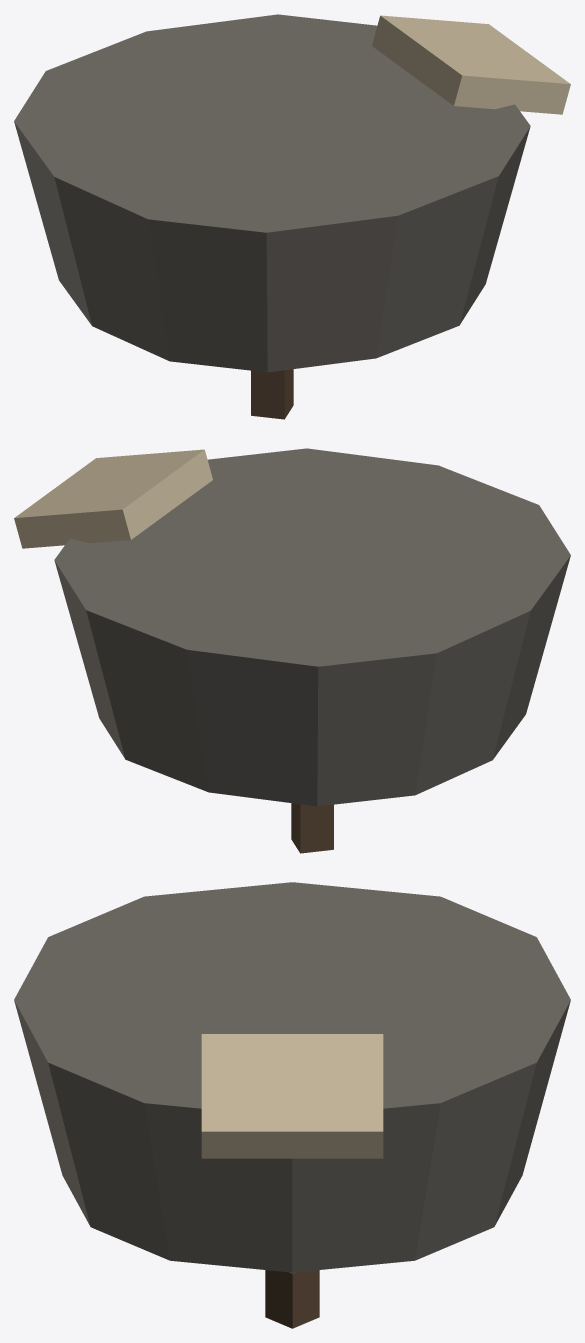
The model's file is P_WashBasin.glb.
3 renders of one model, top to bottom at view 1: azimuth 30°, elevation 25°; view 2: azimuth 150°, elevation 25°; view 3: azimuth 270°, elevation 25°, orthographic. The views are drawn at different scales.
Parts seen in each view (by area): view 1: P_WashBasin; view 2: P_WashBasin; view 3: P_WashBasin.
Part boxes in pixels (<box>): P_WashBasin: <box>14,14,570,419</box>; P_WashBasin: <box>14,448,570,853</box>; P_WashBasin: <box>14,882,570,1328</box>.
Bounding box in the file's own units: 1 × 0.5041 × 0.92.
